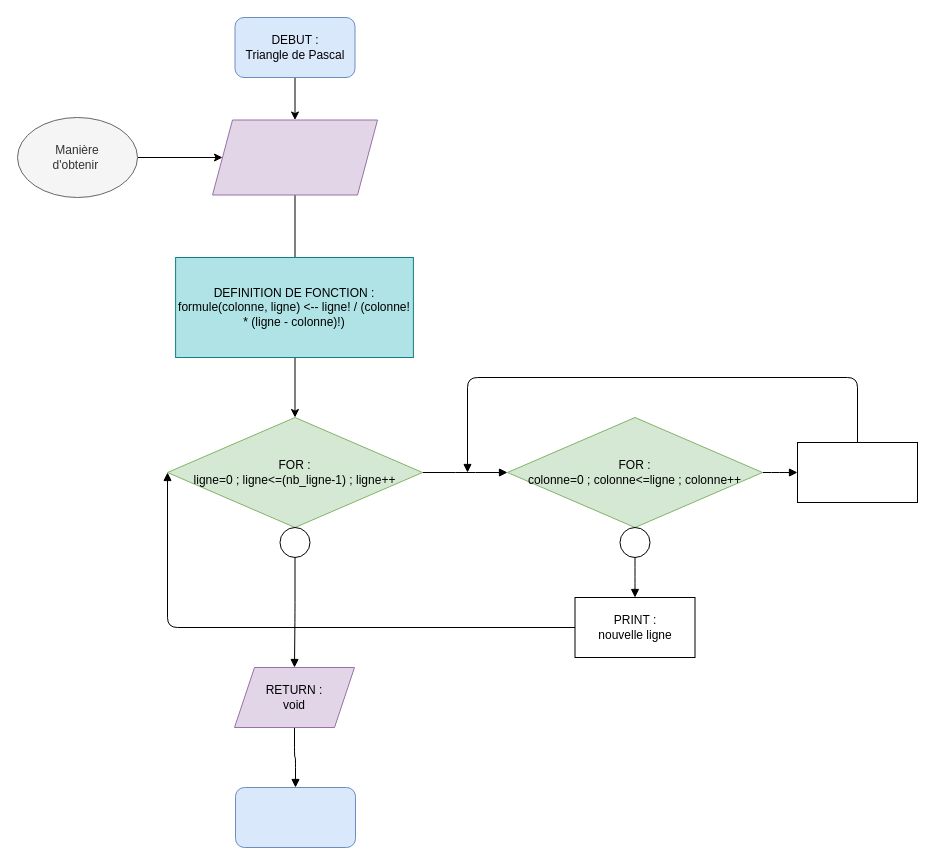
This 935x865 diagram has some shape labels left out. Here are the shapes that lost their labels. From the top down, the centre of each, then its label:
At point 295,157: "Obtention des variables nb_ligne".
At point 857,472: "PRINT : formule(colonne, ligne); tab;".
At point 295,817: "FIN".
